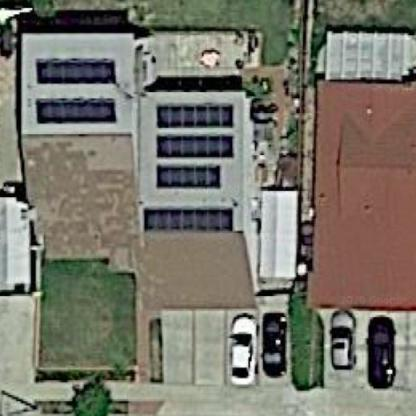car: (225, 309, 266, 386), (363, 313, 401, 393), (259, 307, 292, 383), (331, 306, 361, 375)
solar_panel: (149, 128, 241, 162), (35, 53, 119, 89), (32, 93, 122, 126), (140, 206, 249, 233), (153, 98, 236, 132), (151, 159, 225, 191)
